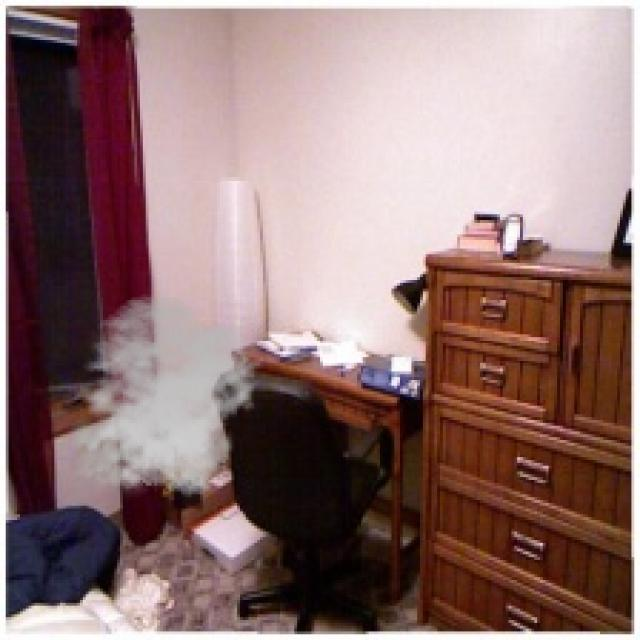smoke: (60, 294, 263, 503)
